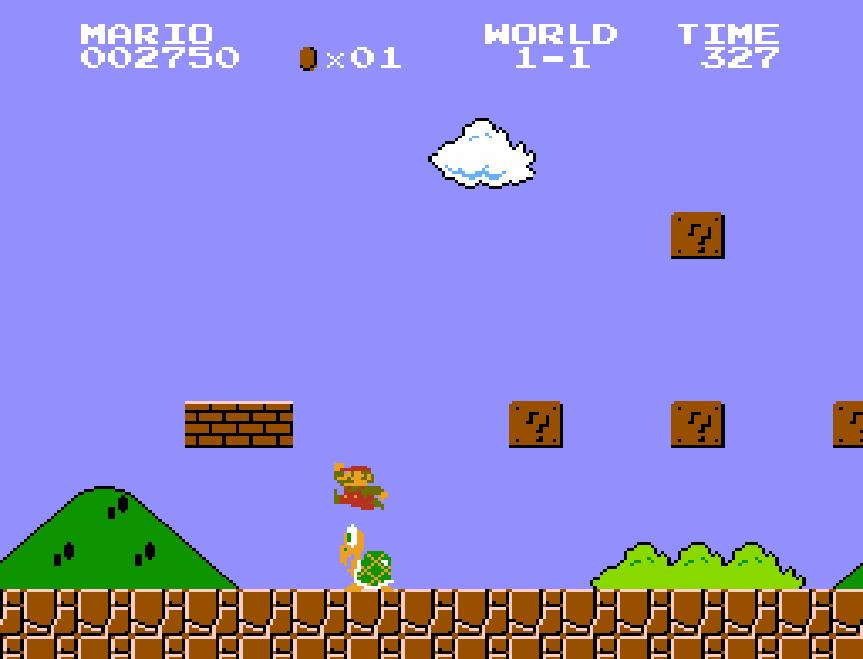little_mario: (332, 461, 390, 511)
